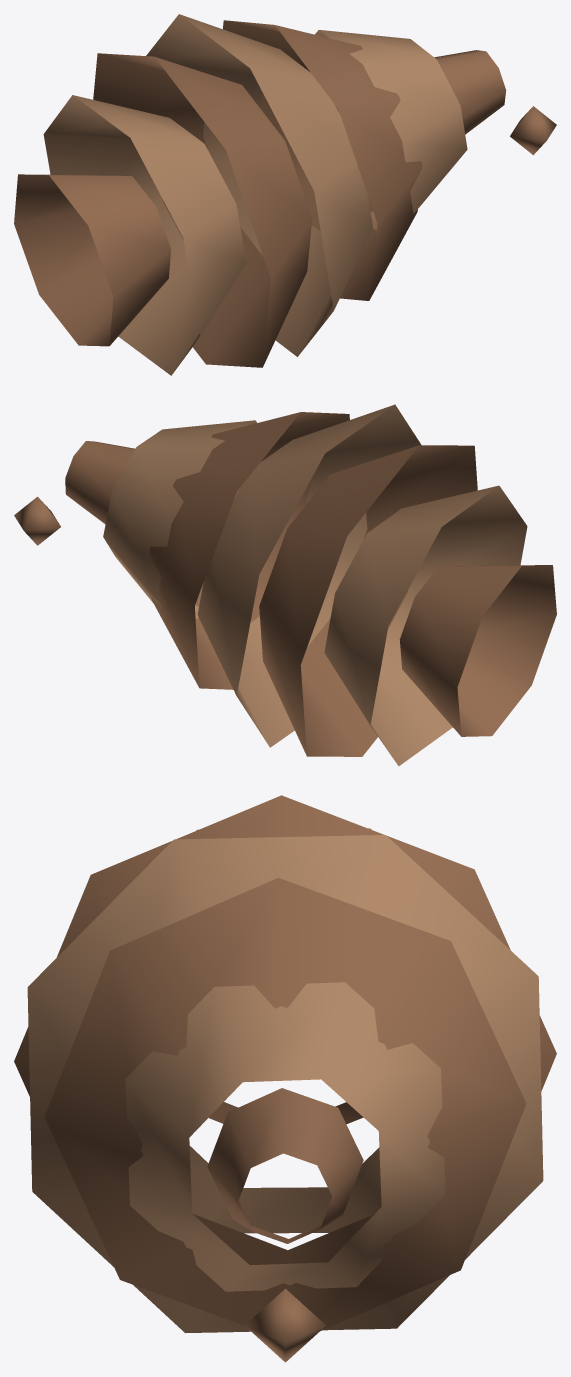
Rendered from col_pinecone.gltf.
3 views of the same model, one above another, from view 1: azimuth 30°, elevation 25°; view 2: azimuth 150°, elevation 25°; view 3: azimuth 270°, elevation 25° (orthographic). The views are drawn at different scales.
Parts seen in each view (by area): view 1: col_pinecone; view 2: col_pinecone; view 3: col_pinecone.
Boxes of the visible parts, box(x1,y1,x2,y2) form: col_pinecone: box(14, 14, 556, 375); col_pinecone: box(14, 404, 556, 766); col_pinecone: box(14, 795, 556, 1362).
Size of what is drawn, in the model's own units: 0.129 by 0.0792 by 0.0796.
